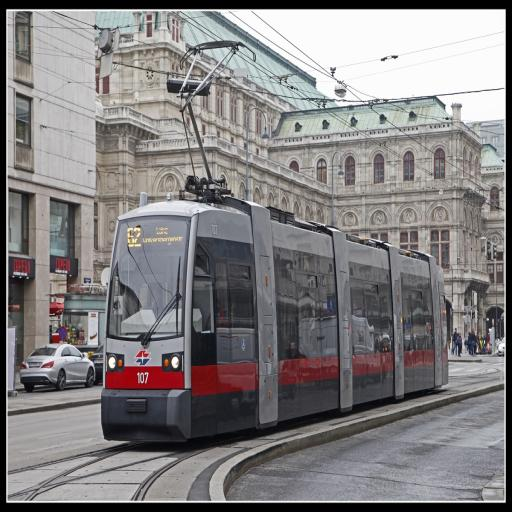ULF: (99, 201, 450, 442)
